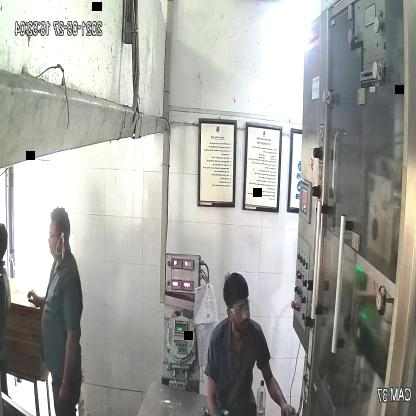goggles: (225, 295, 253, 318)
